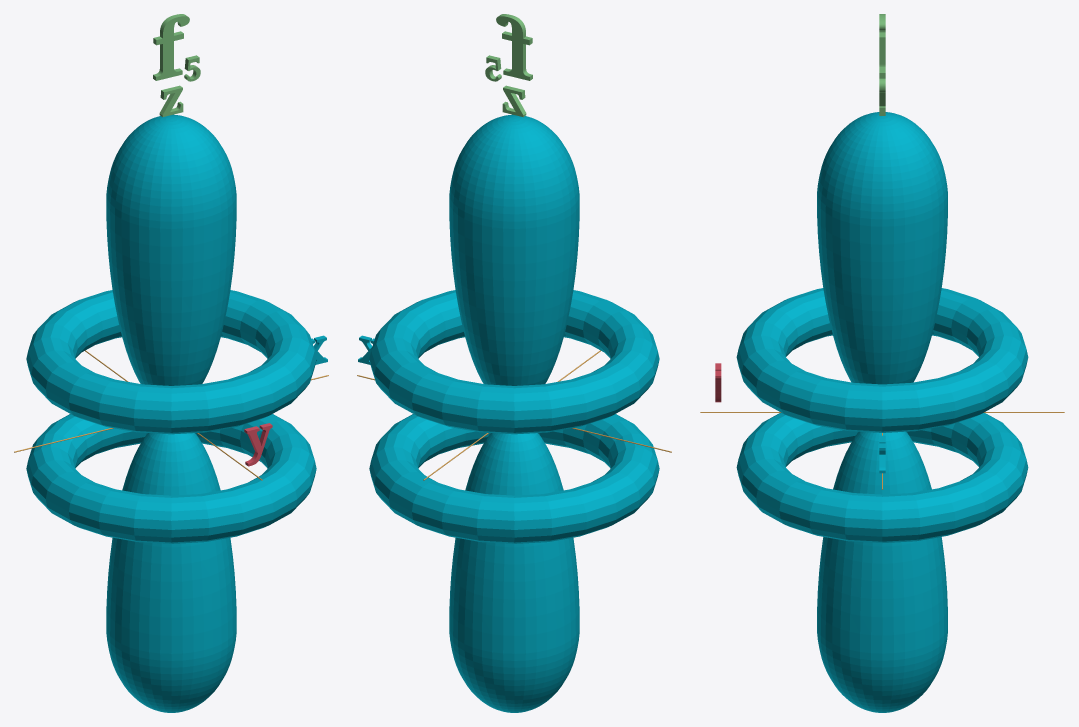
3 renders of one model, left to right at view 1: azimuth 30°, elevation 25°; view 2: azimuth 150°, elevation 25°; view 3: azimuth 270°, elevation 25°, orthographic.
Visible parts, largest first — view 1: Mesh_Mesh_head_geo.001_lambert2SG.001; view 2: Mesh_Mesh_head_geo.001_lambert2SG.001; view 3: Mesh_Mesh_head_geo.001_lambert2SG.001.
Part boxes in pixels (box(x1,y1,x2,y2)): Mesh_Mesh_head_geo.001_lambert2SG.001: box(14, 14, 328, 712); Mesh_Mesh_head_geo.001_lambert2SG.001: box(357, 14, 671, 712); Mesh_Mesh_head_geo.001_lambert2SG.001: box(700, 14, 1064, 712).
Size of the model in its own units: 60 by 126 by 60.
